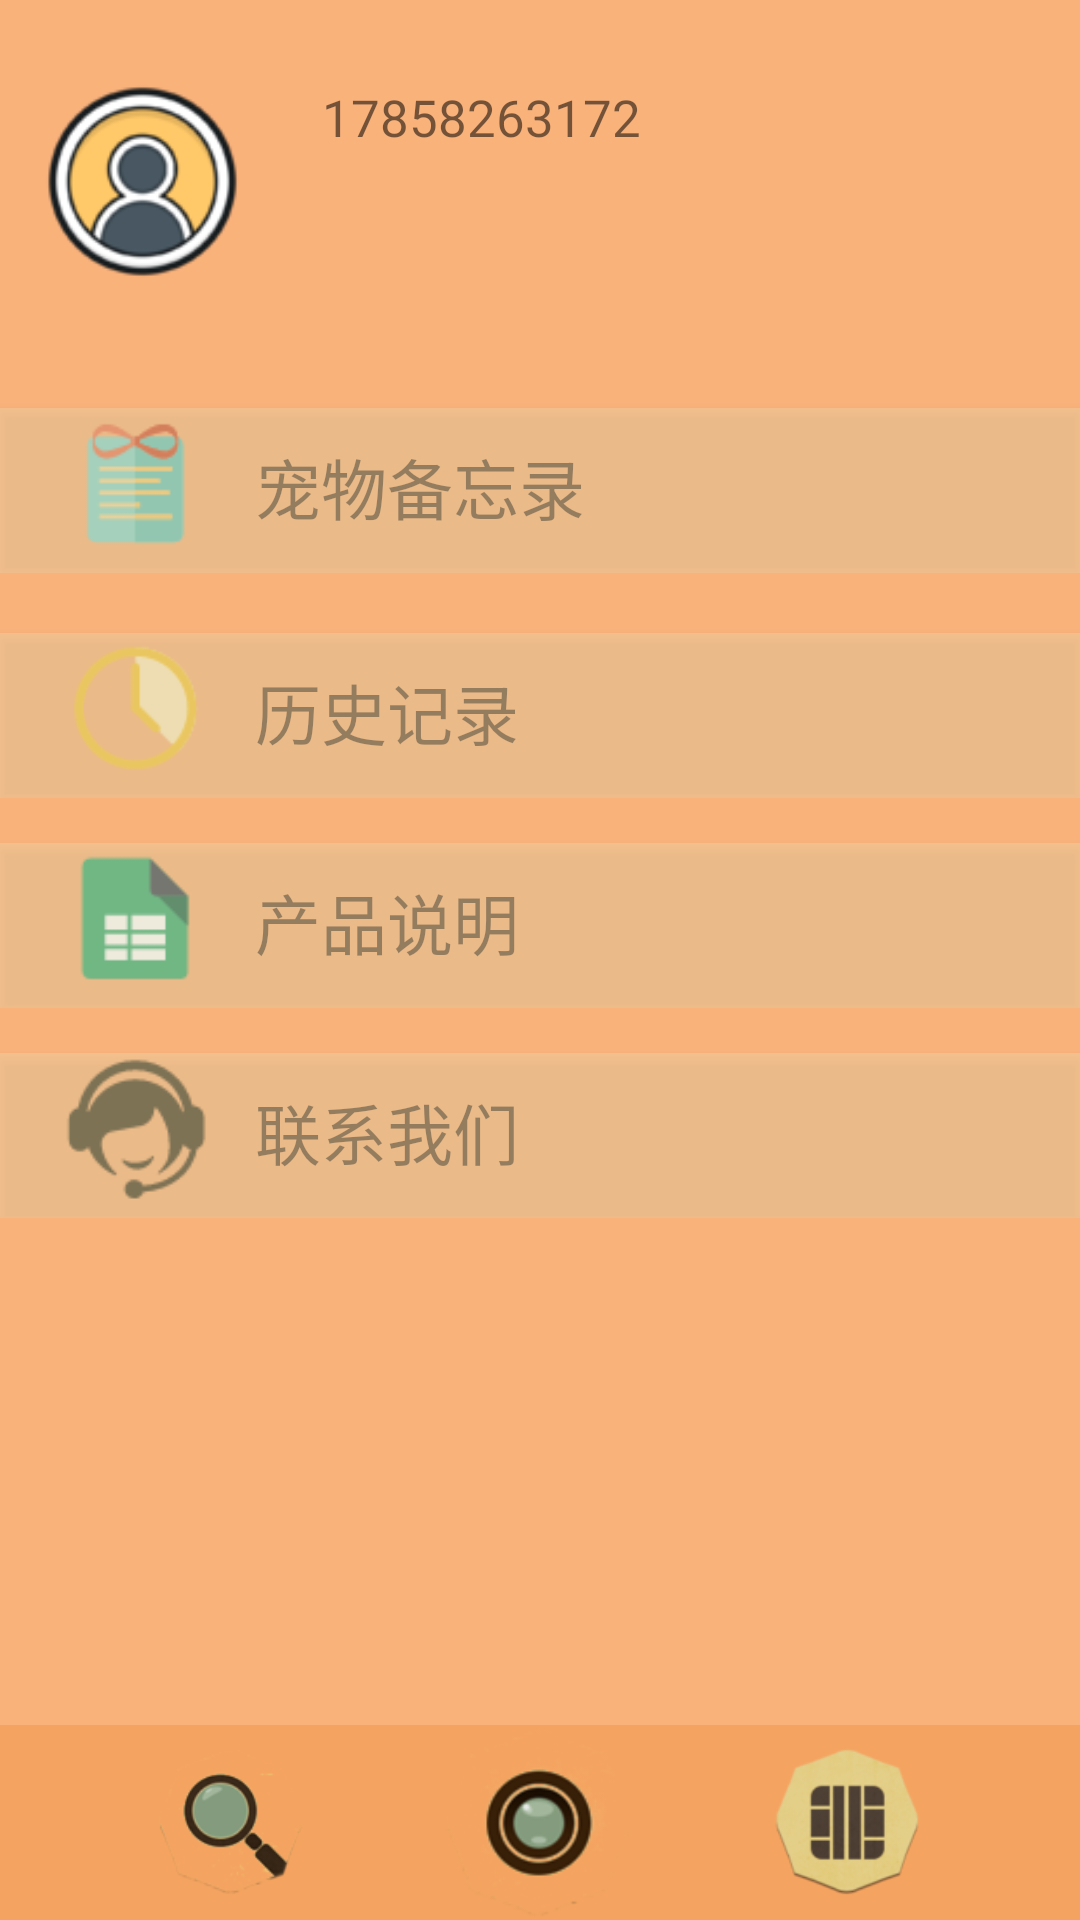

Where to tap for icons on this 1080 x 1920 app screen, as (x,y):
yonghu: (142,181)
